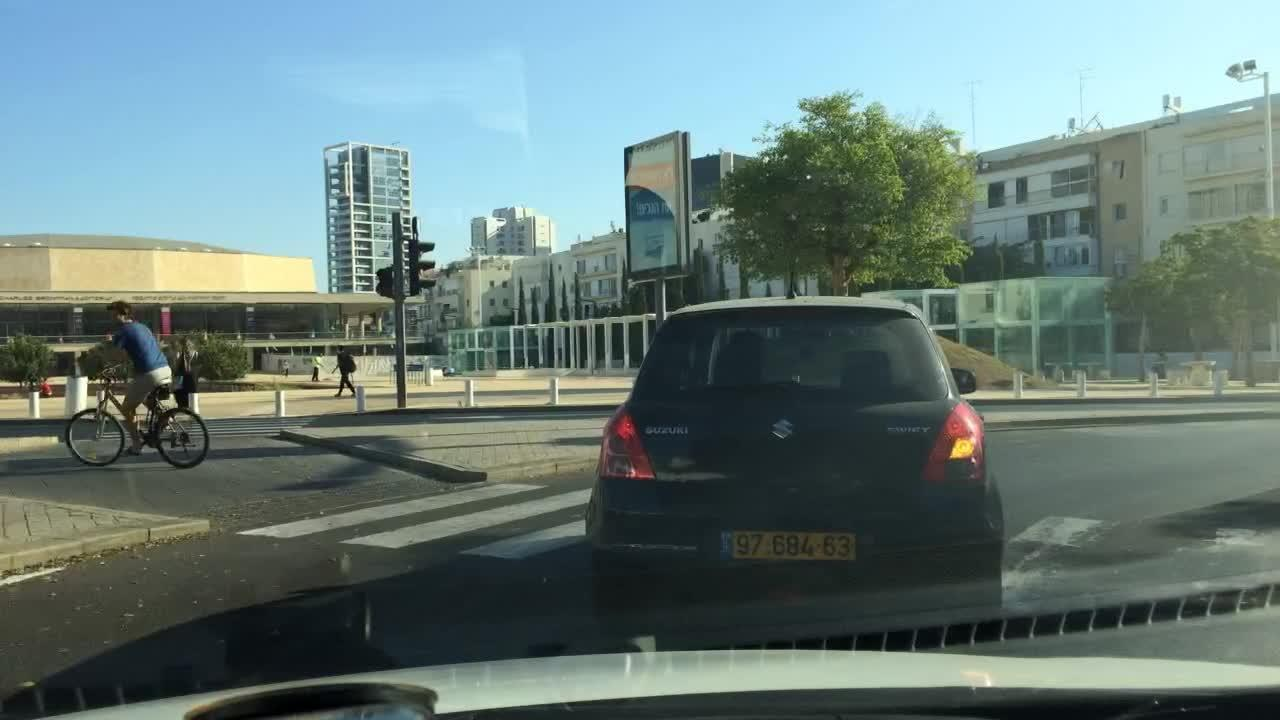suzuki: (762, 410, 805, 449)
